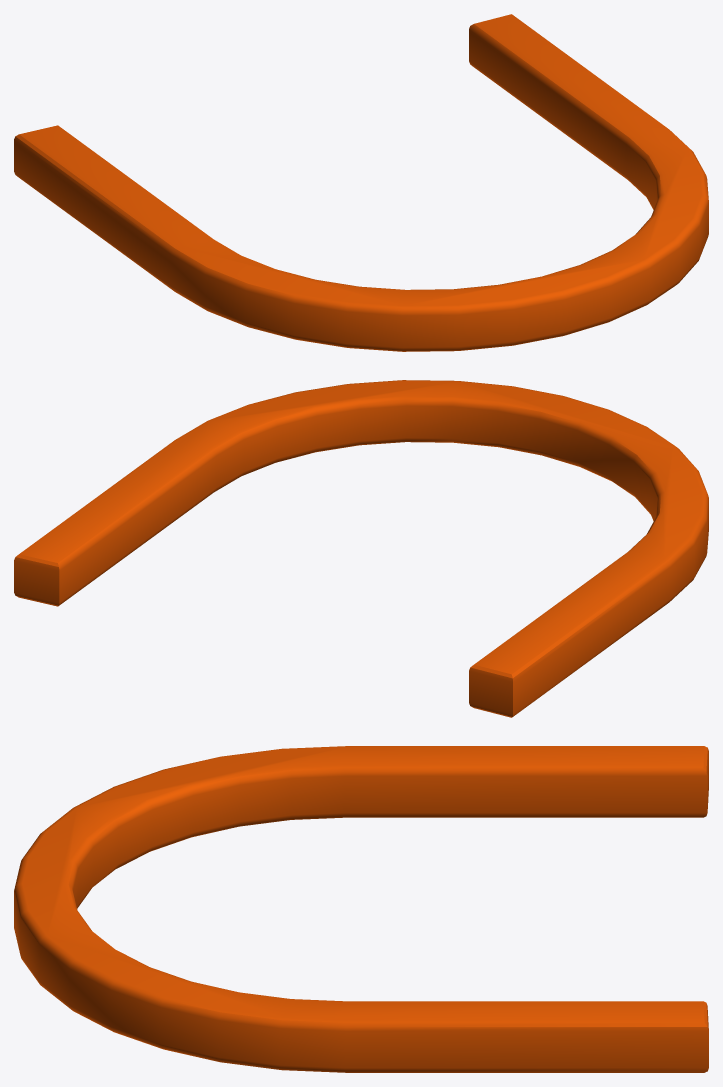
Rendered from picker.fbx.
3 views of the same model, one above another, from view 1: azimuth 30°, elevation 25°; view 2: azimuth 150°, elevation 25°; view 3: azimuth 270°, elevation 25° (orthographic). The views are drawn at different scales.
Visible parts, largest first — view 1: Circle; view 2: Circle; view 3: Circle.
Part boxes in pixels (bbox=[...]): Circle: bbox=[14, 14, 708, 351]; Circle: bbox=[14, 380, 708, 717]; Circle: bbox=[14, 746, 708, 1072].
Size of the model in its own units: 730 by 63.3 by 765.
